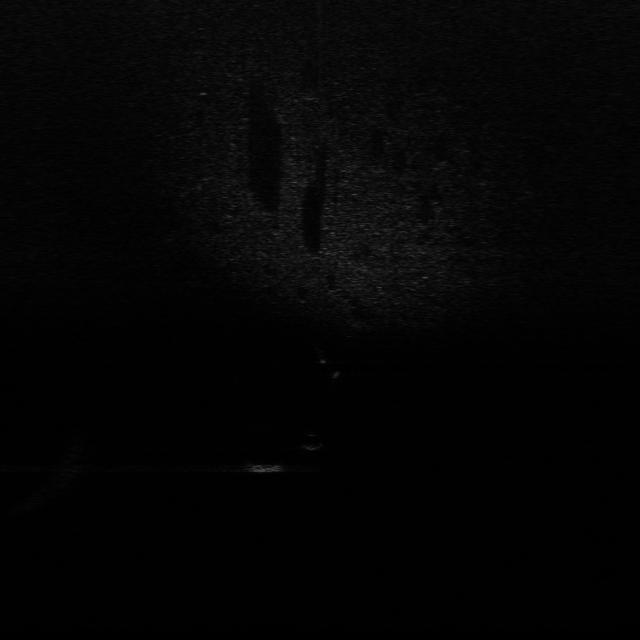ball: (302, 430, 328, 452)
human body: (318, 345, 344, 391)
square cage: (243, 456, 286, 474)
